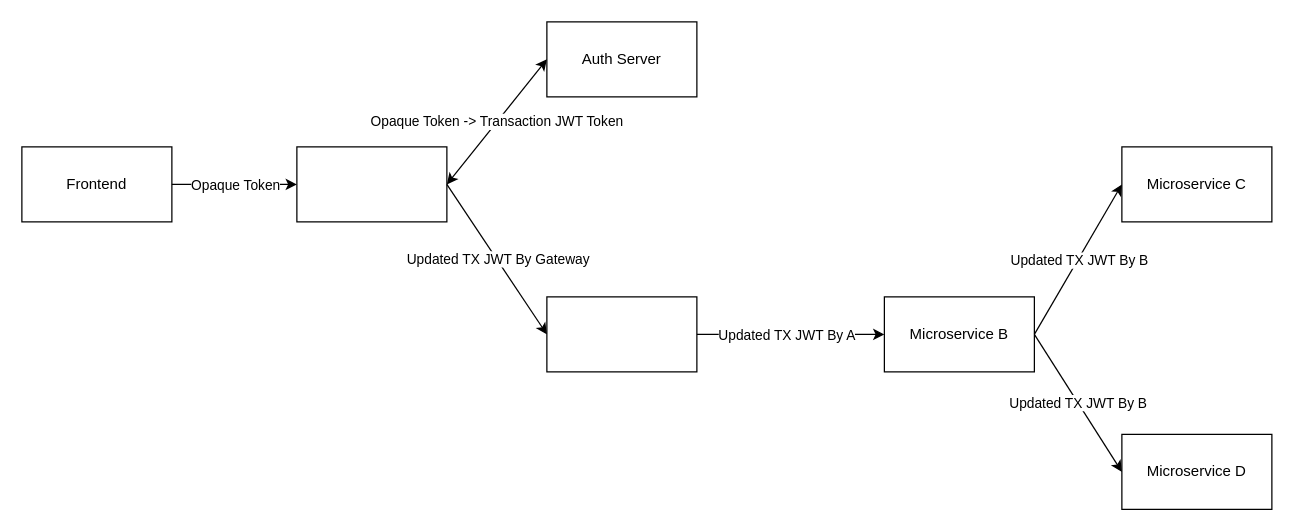
The diagram is 1294 pixels wide and 531 high, and some of its shapes have lost their labels. The centre of each missing label's shape, as x and y in pixels:
API Gateway: point 371,184
Microservice A: point 621,334
